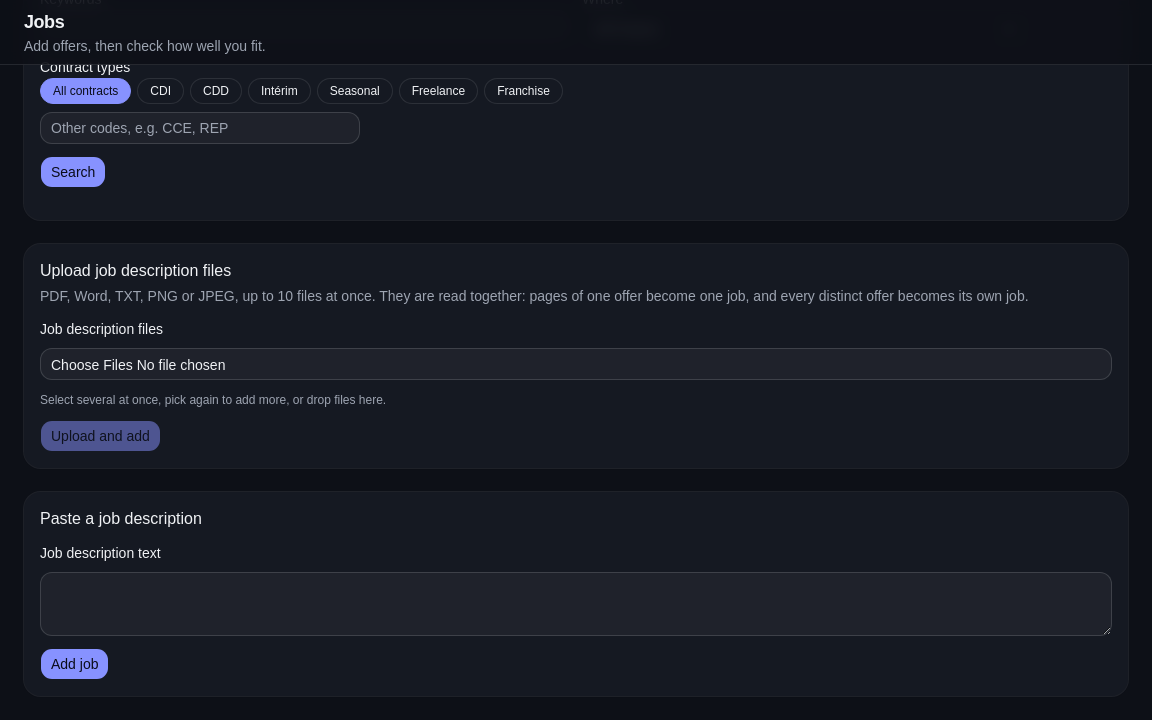
Scenario: empty inbox; manual entry validates, then adds a manual job
This screenshot has width=1152, height=720.
(page scrolled)
Click the button "Add job". click: (75, 664)
box: [40, 648, 110, 680]
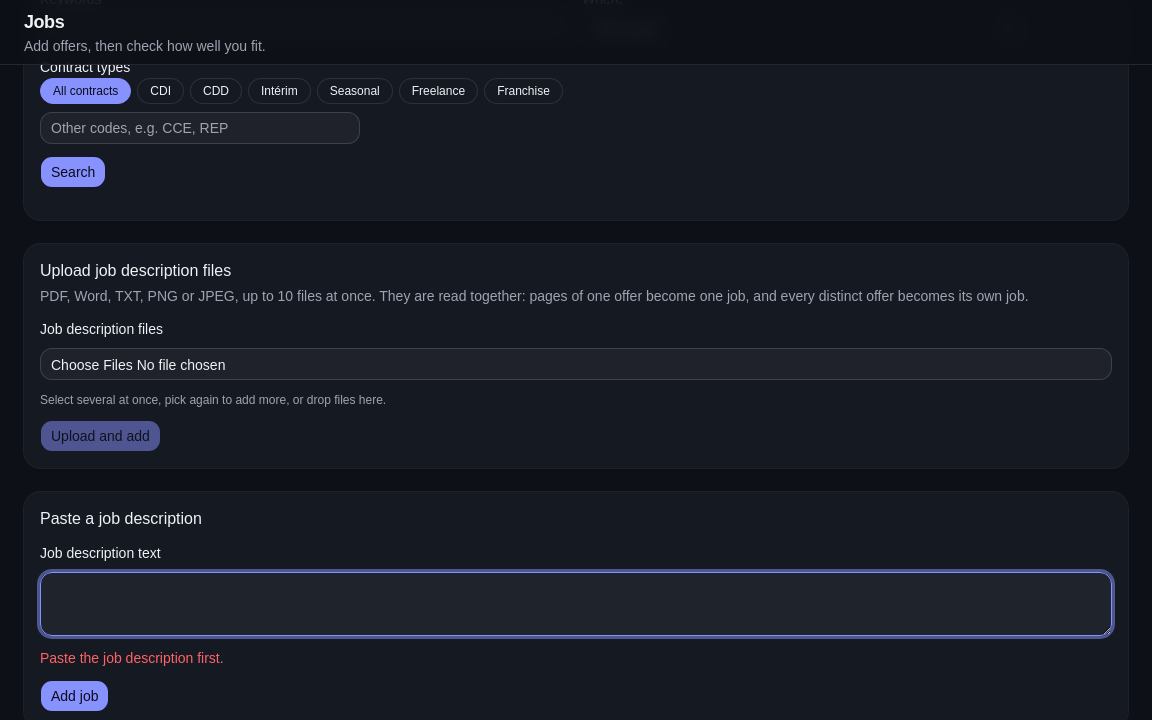
Check: the text "Paste the job description first." is shown, box [40, 650, 224, 666]
Type "We hire a Python dev" into the text box labelled "Job description text". click: (576, 604)
box: [40, 572, 1112, 636]
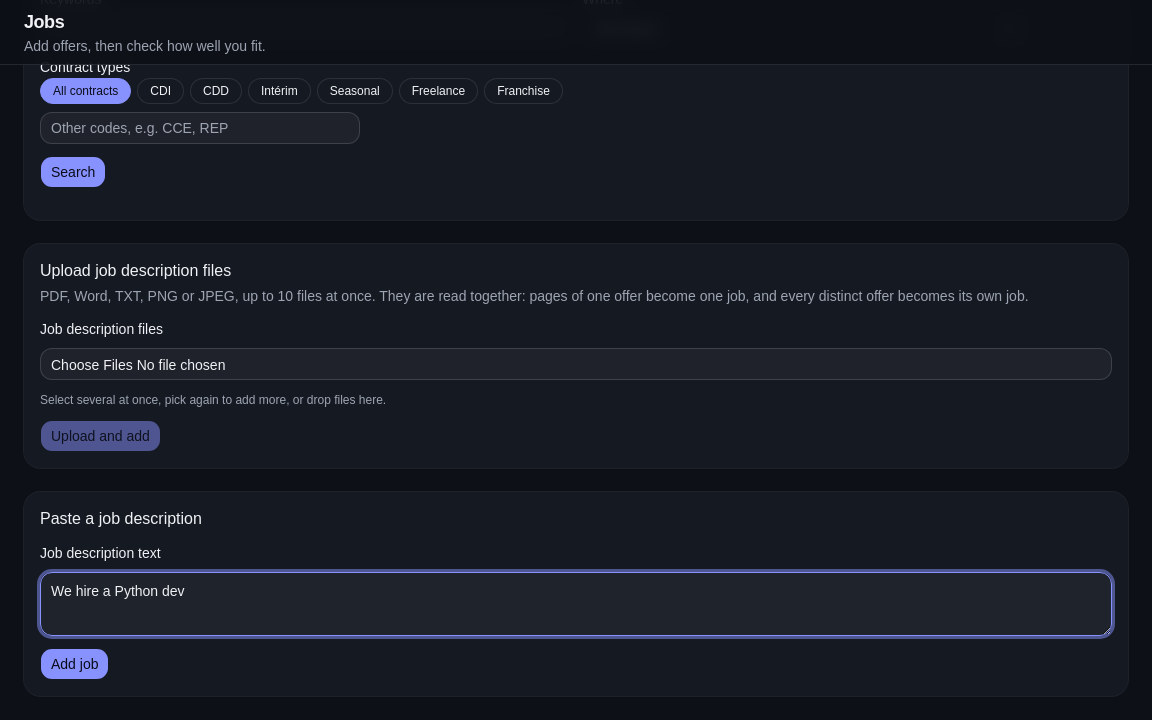
Click the button "Add job". click: (75, 664)
box: [40, 648, 110, 680]
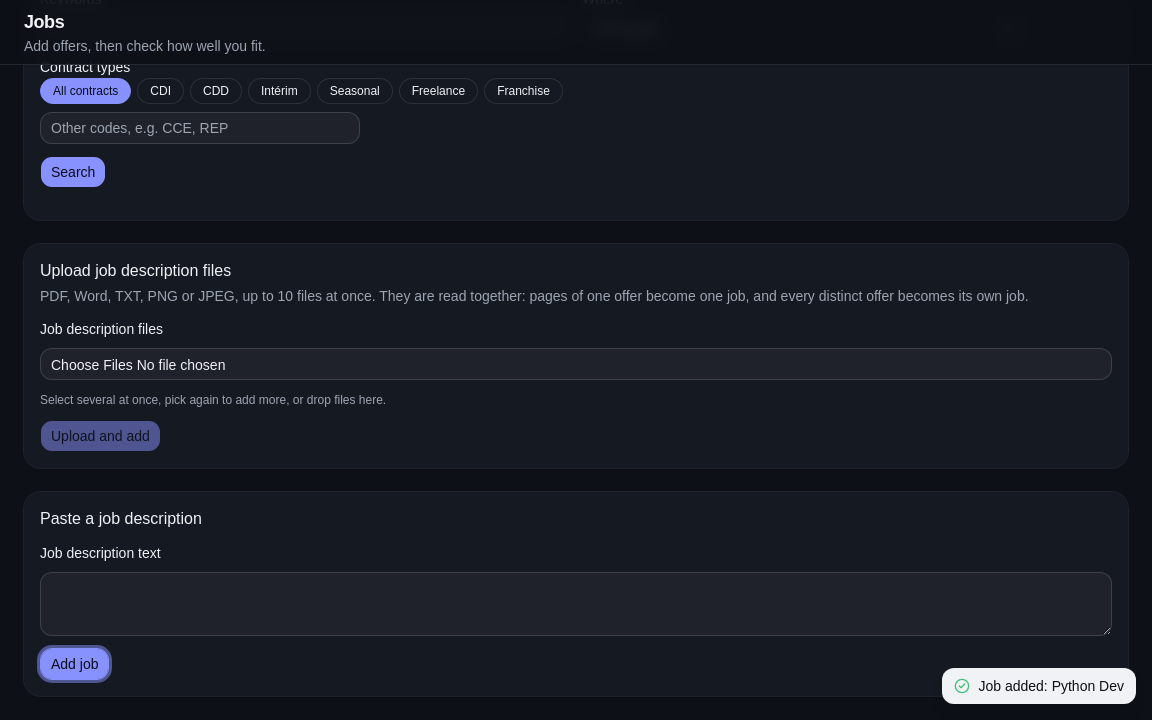
Check: the text "Job added: Python Dev" is shown, box [942, 668, 1136, 704]
